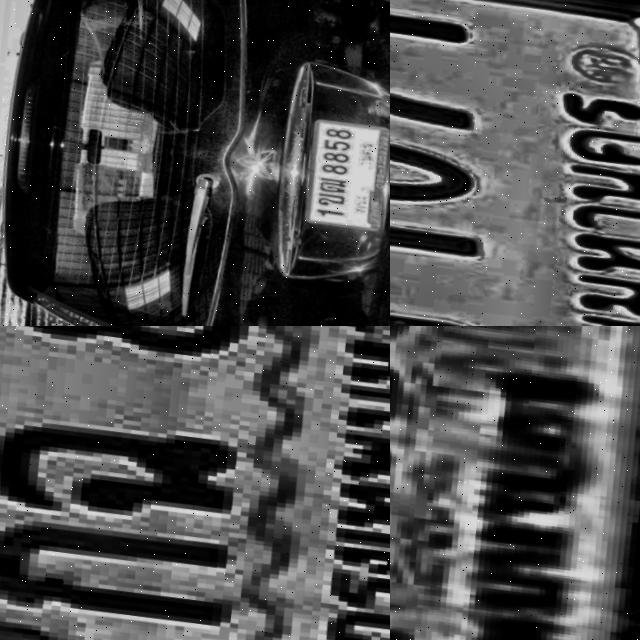license-plate: (0, 326, 390, 640), (390, 0, 640, 326), (390, 326, 640, 640), (293, 116, 390, 235)
